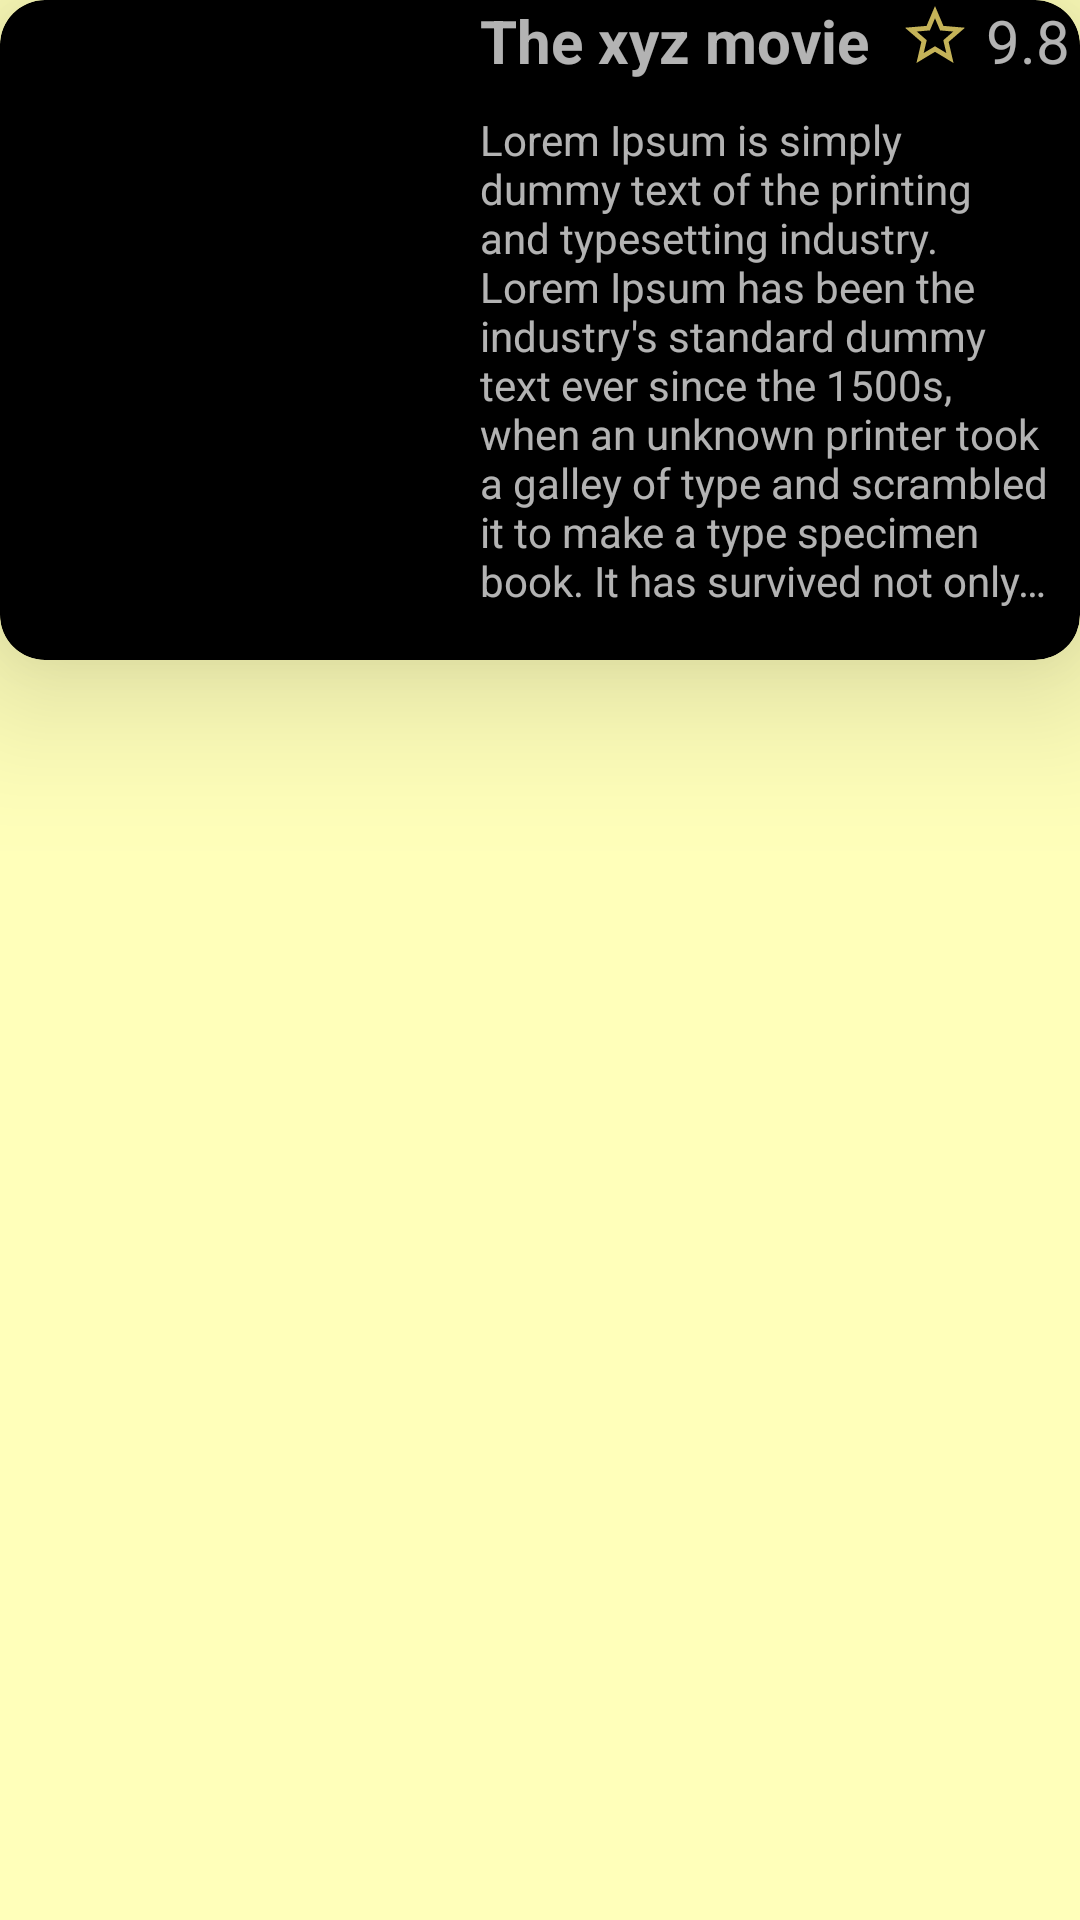

Icons on this 1080×1920 Android screen, each with the point to tap as [x,y]:
star border: [935,34]
